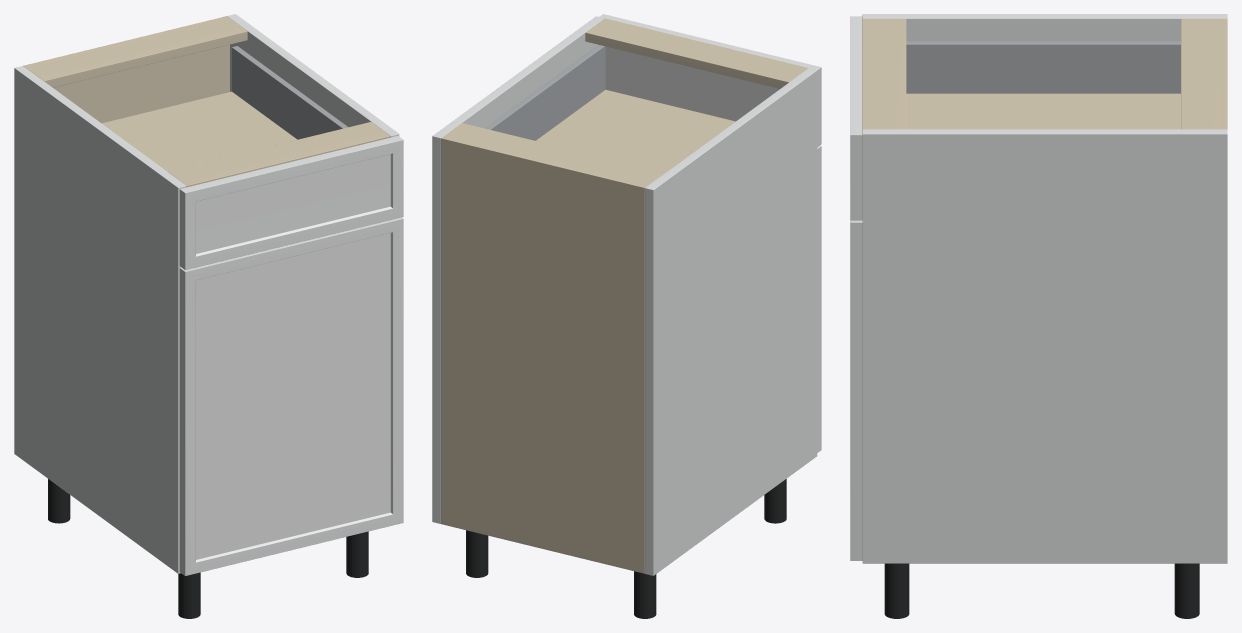
The model's file is oppein-ply-ssw-btc18.glb.
The picture shows the model from 3 angles, left to right: view 1: azimuth 30°, elevation 25°; view 2: azimuth 150°, elevation 25°; view 3: azimuth 270°, elevation 25°; orthographic projection. The views are drawn at different scales.
Visible parts, largest first — view 1: Door, Cabinet side, Drawer front, Drawer floor, Cabinet back, Top support rail, Drawer side.001, Top support rail.001, Cabinet side.001, Adjustable foot.001, Adjustable foot.003, Adjustable foot; view 2: Cabinet back, Cabinet side, Drawer floor, Drawer front, Cabinet side.001, Top support rail.001, Drawer side.001, Top support rail, Door, Adjustable foot, Adjustable foot.002, Adjustable foot.001; view 3: Cabinet side.001, Drawer side, Drawer floor, Cabinet side, Top support rail.001, Top support rail, Door, Drawer front, Adjustable foot.002, Adjustable foot.003, Cabinet back.
Boxes of the visible parts, box(x1,y1,x2,y2) form: Door: box(179, 217, 403, 575); Cabinet side: box(14, 66, 186, 573); Drawer front: box(179, 136, 403, 270); Drawer floor: box(102, 91, 297, 171); Cabinet back: box(23, 16, 229, 123); Top support rail: box(25, 18, 247, 87); Drawer side.001: box(232, 46, 348, 139); Top support rail.001: box(167, 122, 390, 187); Cabinet side.001: box(227, 14, 399, 137); Adjustable foot.001: box(178, 572, 200, 618); Adjustable foot.003: box(346, 531, 368, 577); Adjustable foot: box(48, 479, 70, 523); Cabinet back: box(441, 136, 647, 573); Cabinet side: box(645, 68, 817, 575); Drawer floor: box(536, 89, 735, 172); Drawer front: box(599, 14, 821, 146); Cabinet side.001: box(432, 16, 604, 523); Top support rail.001: box(585, 18, 808, 88); Drawer side.001: box(485, 45, 605, 140); Top support rail: box(444, 123, 665, 185); Door: box(817, 145, 821, 452); Adjustable foot: box(634, 571, 656, 618); Adjustable foot.002: box(466, 530, 488, 577); Adjustable foot.001: box(764, 479, 786, 523); Cabinet side.001: box(862, 129, 1227, 563); Drawer side: box(906, 41, 1180, 93); Drawer floor: box(906, 93, 1180, 129); Cabinet side: box(862, 14, 1227, 41); Top support rail.001: box(862, 18, 906, 129); Top support rail: box(1181, 18, 1220, 129); Door: box(850, 220, 862, 560); Drawer front: box(850, 16, 862, 220); Adjustable foot.002: box(1174, 563, 1199, 618); Adjustable foot.003: box(884, 563, 909, 618); Cabinet back: box(1220, 18, 1227, 129).
Size of the model in its own units: 0.4572 by 0.8763 by 0.6064.
